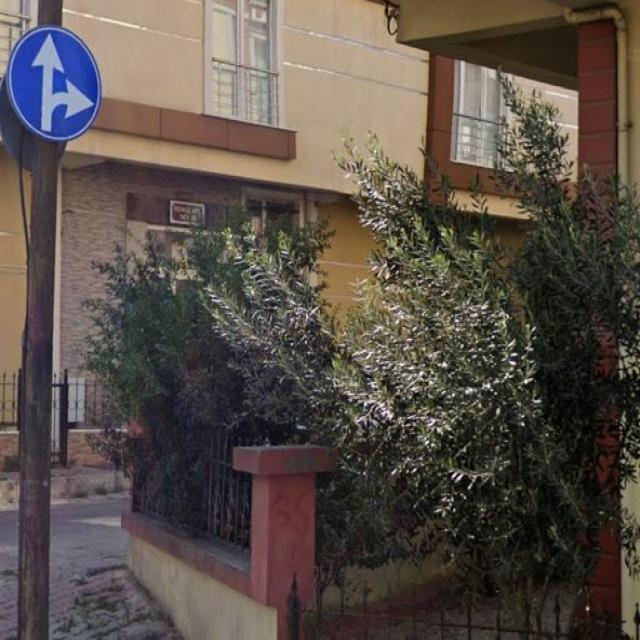ilerisag: (8, 25, 102, 139)
